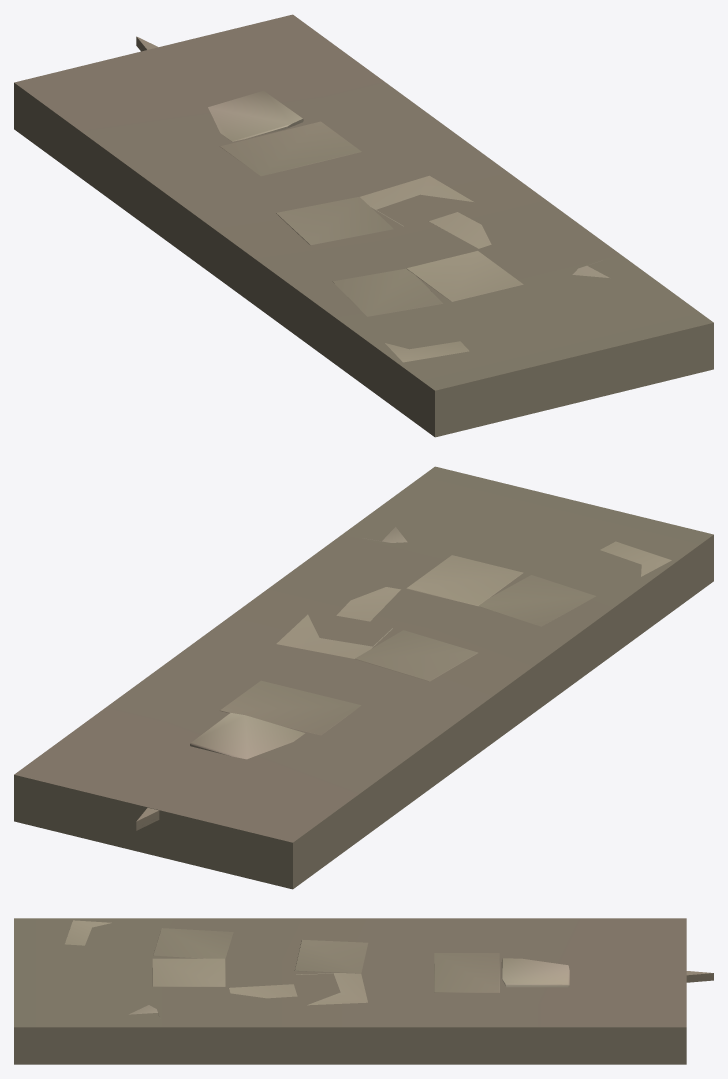
The model's file is dome_floor_b0.glb.
3 renders of one model, top to bottom at view 1: azimuth 30°, elevation 25°; view 2: azimuth 150°, elevation 25°; view 3: azimuth 270°, elevation 25°, orthographic. The views are drawn at different scales.
Parts seen in each view (by area): view 1: dome_floor_b0_far, dome_floor_b0; view 2: dome_floor_b0_far, dome_floor_b0; view 3: dome_floor_b0_far, dome_floor_b0.
Part boxes in pixels (left/top/right/bottom): dome_floor_b0_far: left=14, top=14, right=713, bottom=437; dome_floor_b0: left=136, top=36, right=609, bottom=362; dome_floor_b0_far: left=14, top=466, right=713, bottom=889; dome_floor_b0: left=136, top=527, right=671, bottom=830; dome_floor_b0_far: left=14, top=918, right=686, bottom=1064; dome_floor_b0: left=65, top=920, right=713, bottom=1014.
Size of the model in its own units: 18.74 by 3.26 by 51.
